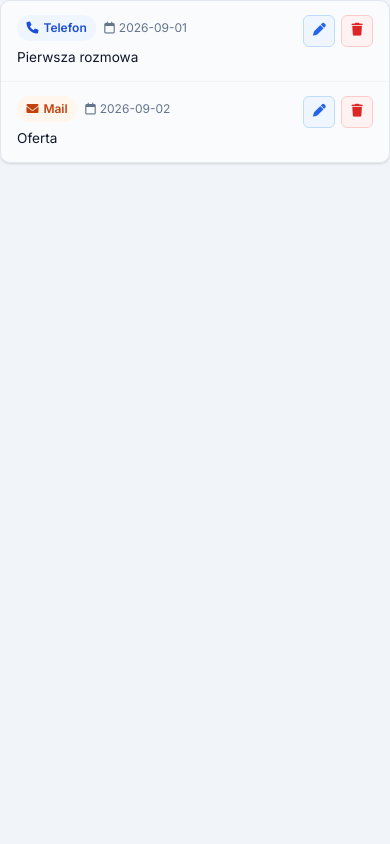
Test: ActionList › opens the delete confirmation from a mobile card
This screenshot has width=390, height=844.
Click the button with class "btn-icon--delete" next to "2026-09-01" at (357, 31), box [341,15,373,47]
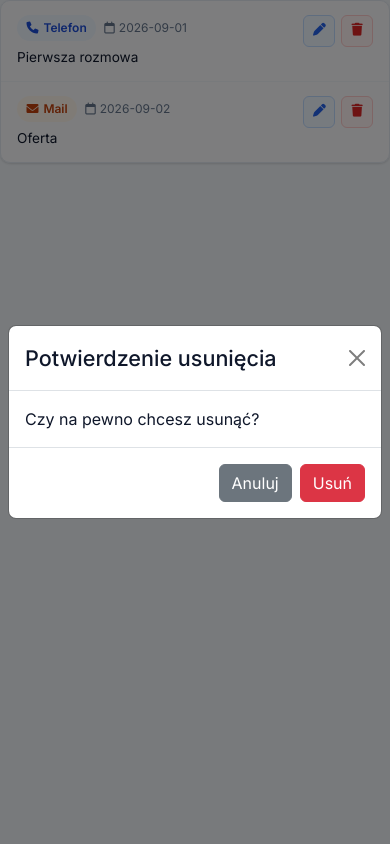
Expected: the text "Czy na pewno chcesz usunąć?" is shown, [25,409,259,429]
